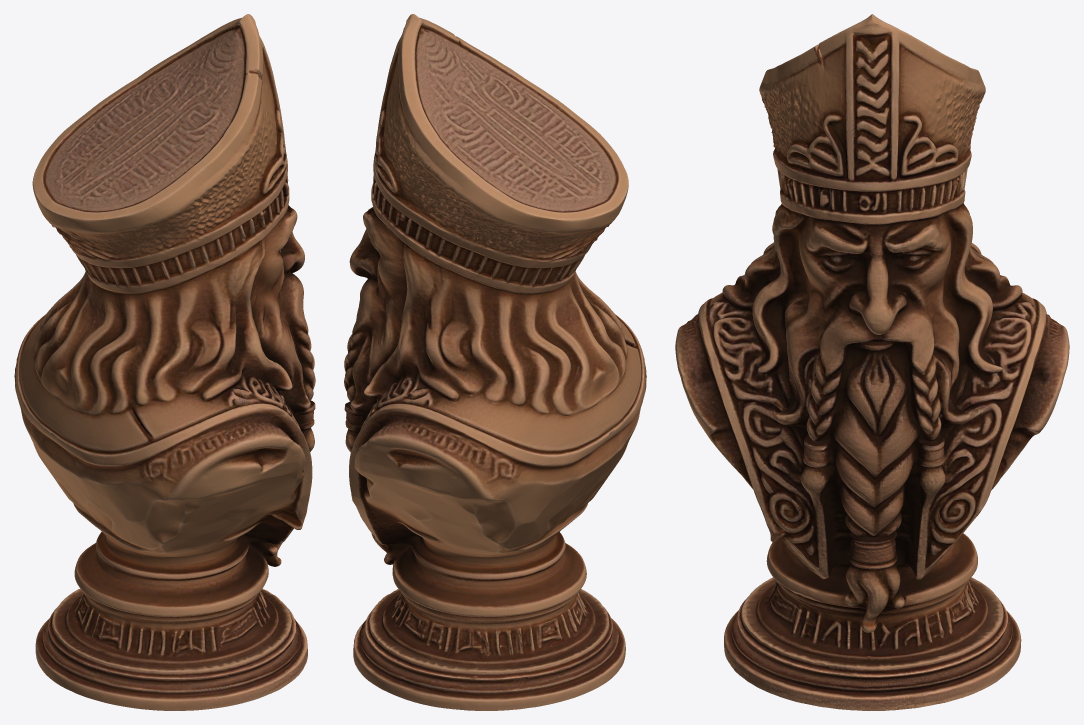
The model's file is Bishop3d.glb.
3 renders of one model, left to right at view 1: azimuth 30°, elevation 25°; view 2: azimuth 150°, elevation 25°; view 3: azimuth 270°, elevation 25°, orthographic. The views are drawn at different scales.
Visible parts, largest first — view 1: tripo_node_7a7dcf53-e0bd-4f3c-91f4-48305e82f7b4; view 2: tripo_node_7a7dcf53-e0bd-4f3c-91f4-48305e82f7b4; view 3: tripo_node_7a7dcf53-e0bd-4f3c-91f4-48305e82f7b4.
Boxes of the visible parts, left/top/right/bottom form: tripo_node_7a7dcf53-e0bd-4f3c-91f4-48305e82f7b4: left=14, top=14, right=315, bottom=710; tripo_node_7a7dcf53-e0bd-4f3c-91f4-48305e82f7b4: left=344, top=14, right=646, bottom=710; tripo_node_7a7dcf53-e0bd-4f3c-91f4-48305e82f7b4: left=675, top=14, right=1069, bottom=710.
Size of the model in its own units: 0.4366 by 0.9987 by 0.5292.
1 material, 1 textured.
